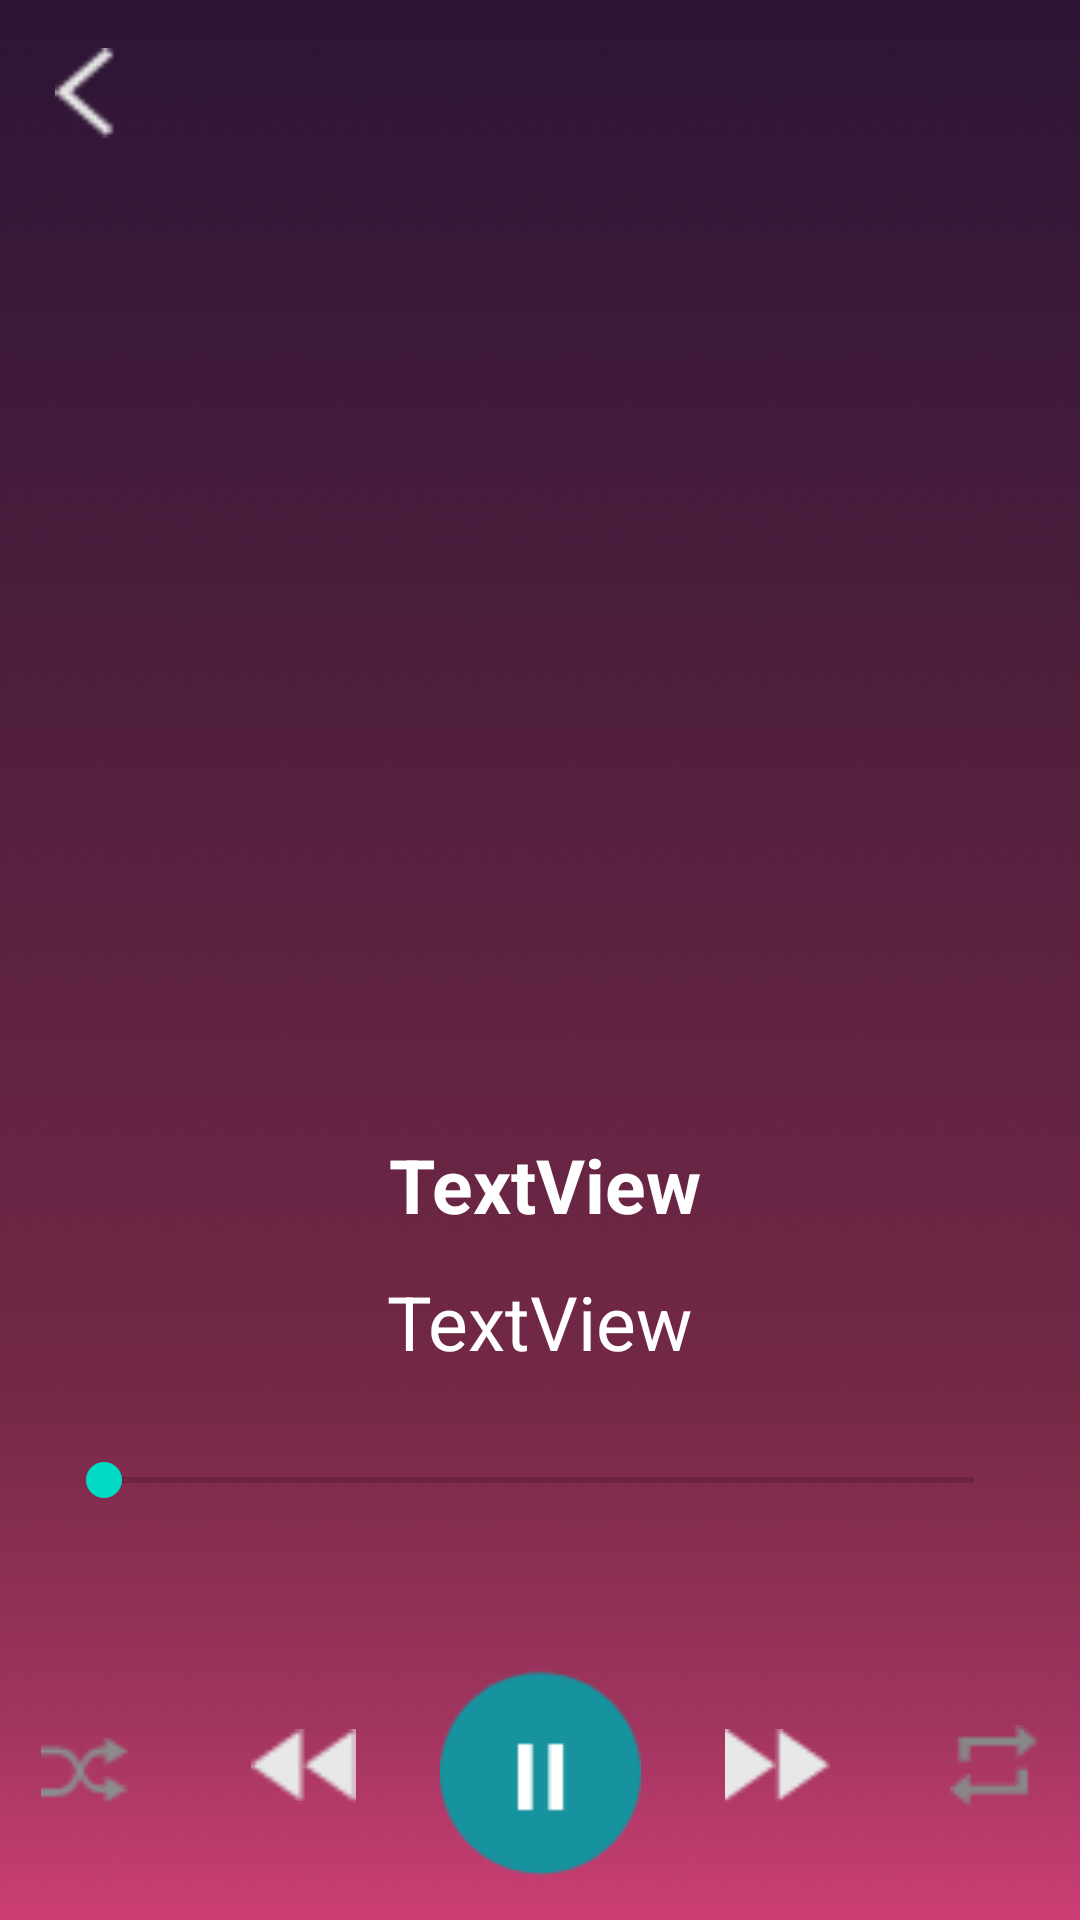

Where to tap for icons on this 1080*1920 app screen, as point (x, y):
back: point (84, 93)
pause: point (540, 1766)
repeat off: point (995, 1764)
rewind back: point (303, 1765)
shuffle off: point (86, 1765)
skip forward: point (777, 1765)
